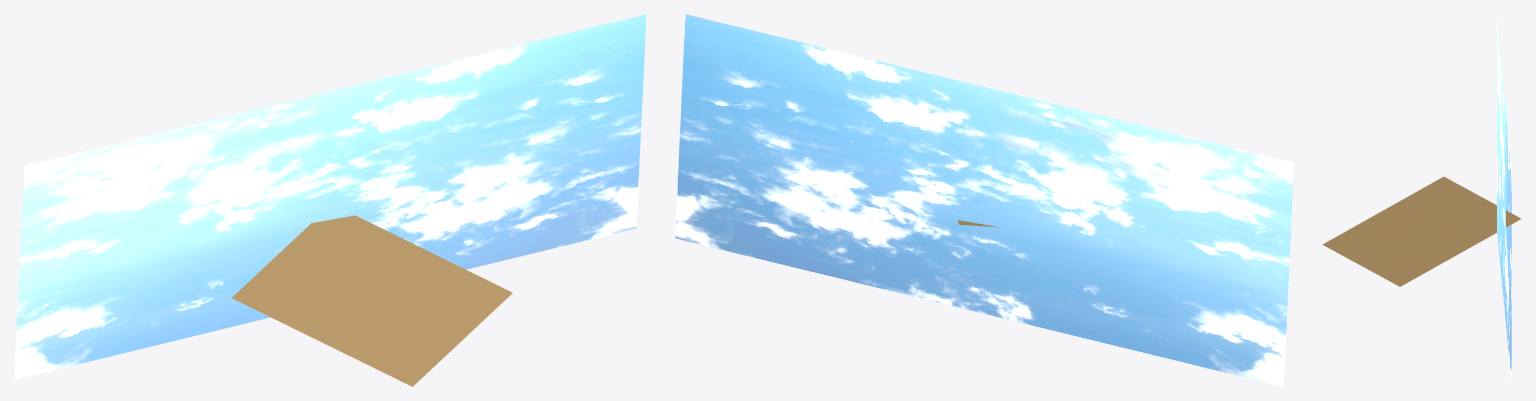
Rendered from landscape.glb.
3 views of the same model, side by side, from view 1: azimuth 30°, elevation 25°; view 2: azimuth 150°, elevation 25°; view 3: azimuth 270°, elevation 25° (orthographic). The views are drawn at different scales.
Visible parts, largest first — view 1: Plane.001, Plane; view 2: Plane.001; view 3: Plane, Plane.001.
Boxes of the visible parts, box(x1,y1,x2,y2) form: Plane.001: box(14, 14, 646, 379); Plane: box(232, 215, 512, 386); Plane.001: box(675, 14, 1293, 386); Plane: box(1322, 176, 1521, 286); Plane.001: box(1497, 16, 1511, 384).
Size of the model in its own units: 68.13 by 23.22 by 26.65.
2 materials, 1 textured.
